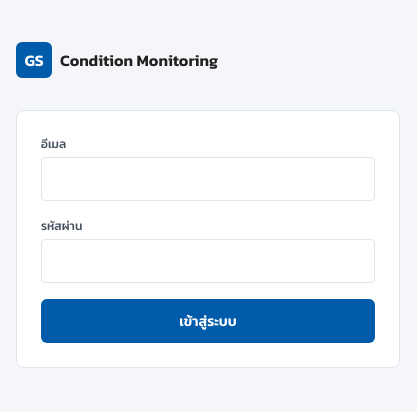
Test: Login › AC-001-03 · ยังไม่กรอก → บอกให้กรอกก่อน ไม่ยิง API ทิ้ง
Click the button "เข้าสู่ระบบ". click: (208, 321)
box: [41, 299, 375, 343]
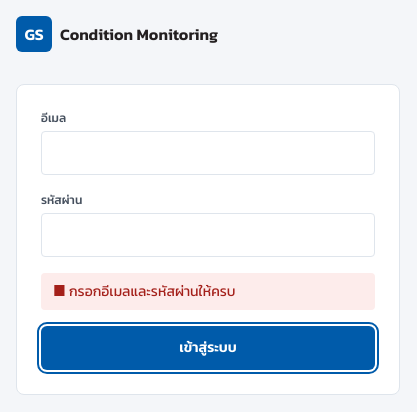
Expected: the message shows "กรอกอีเมลและรหัสผ่านให้ครบ", [69, 280, 236, 302]
